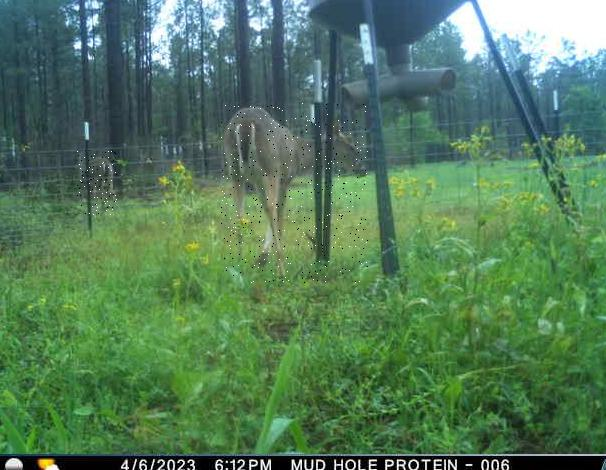Deer: (222, 103, 369, 283), (77, 150, 119, 215)
